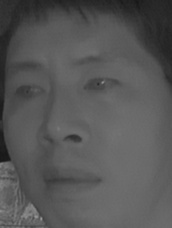eye: (83, 72, 120, 100), (13, 81, 46, 104)
mouth: (39, 163, 106, 201)
